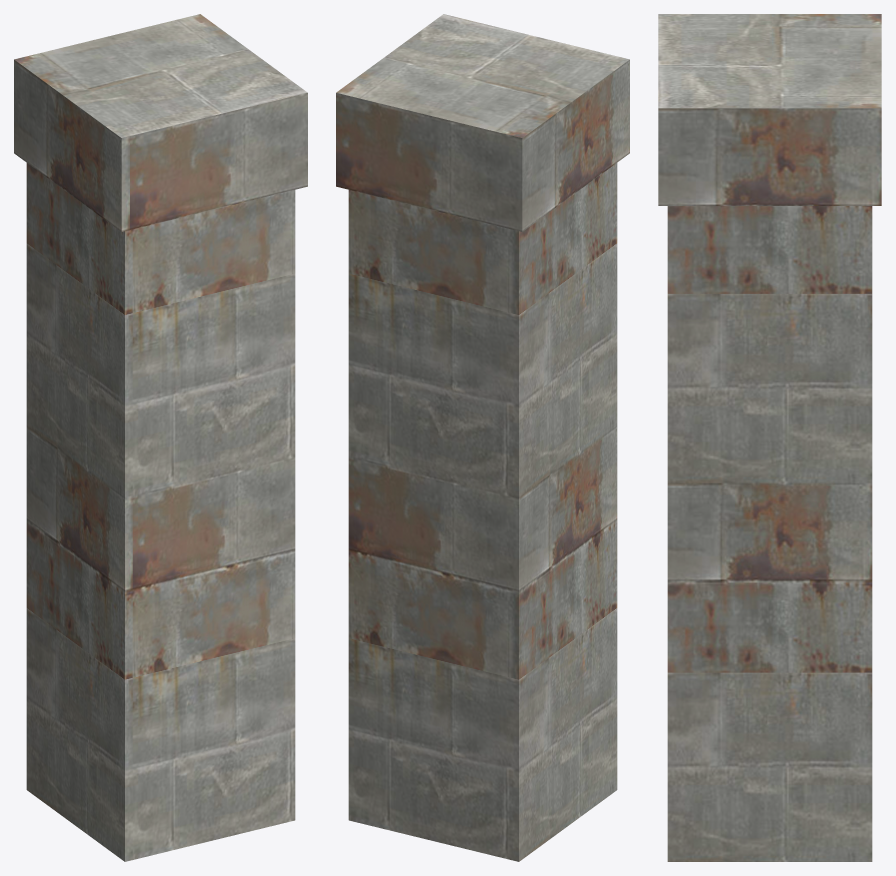
The model's file is SmallPillar.fbx.
The picture shows the model from 3 angles, left to right: view 1: azimuth 30°, elevation 25°; view 2: azimuth 150°, elevation 25°; view 3: azimuth 270°, elevation 25°; orthographic projection. The views are drawn at different scales.
Parts seen in each view (by area): view 1: Cube; view 2: Cube; view 3: Cube.
Part boxes in pixels (bbox=[...]): Cube: bbox=[14, 14, 307, 861]; Cube: bbox=[336, 14, 629, 861]; Cube: bbox=[658, 14, 881, 861].
Size of the model in its own units: 320 by 1196 by 320.
